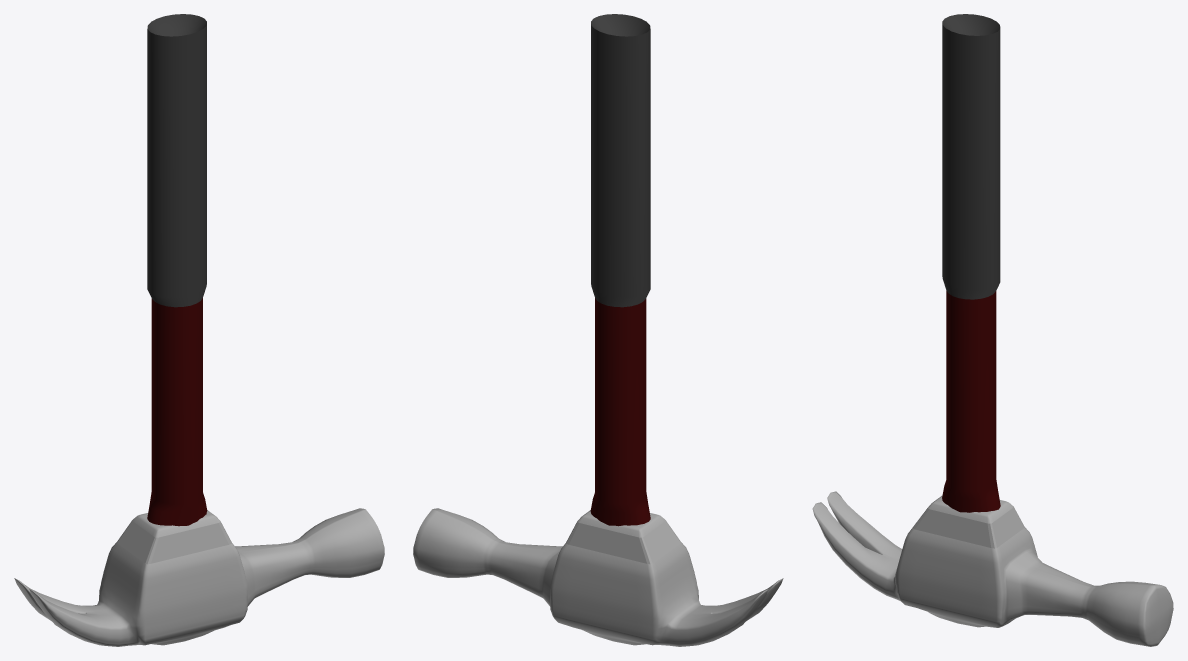
Rendered from Hammertime.fbx.
The picture shows the model from 3 angles, left to right: view 1: azimuth 30°, elevation 25°; view 2: azimuth 150°, elevation 25°; view 3: azimuth 330°, elevation 25°; orthographic projection. The views are drawn at different scales.
Parts seen in each view (by area): view 1: pCylinder2; view 2: pCylinder2; view 3: pCylinder2.
Part boxes in pixels (x1=…): pCylinder2: x1=14, y1=14, x2=384, y2=646; pCylinder2: x1=413, y1=14, x2=783, y2=646; pCylinder2: x1=812, y1=14, x2=1173, y2=646.
Bounding box in the file's own units: 15.42 × 25.93 × 3.22.
